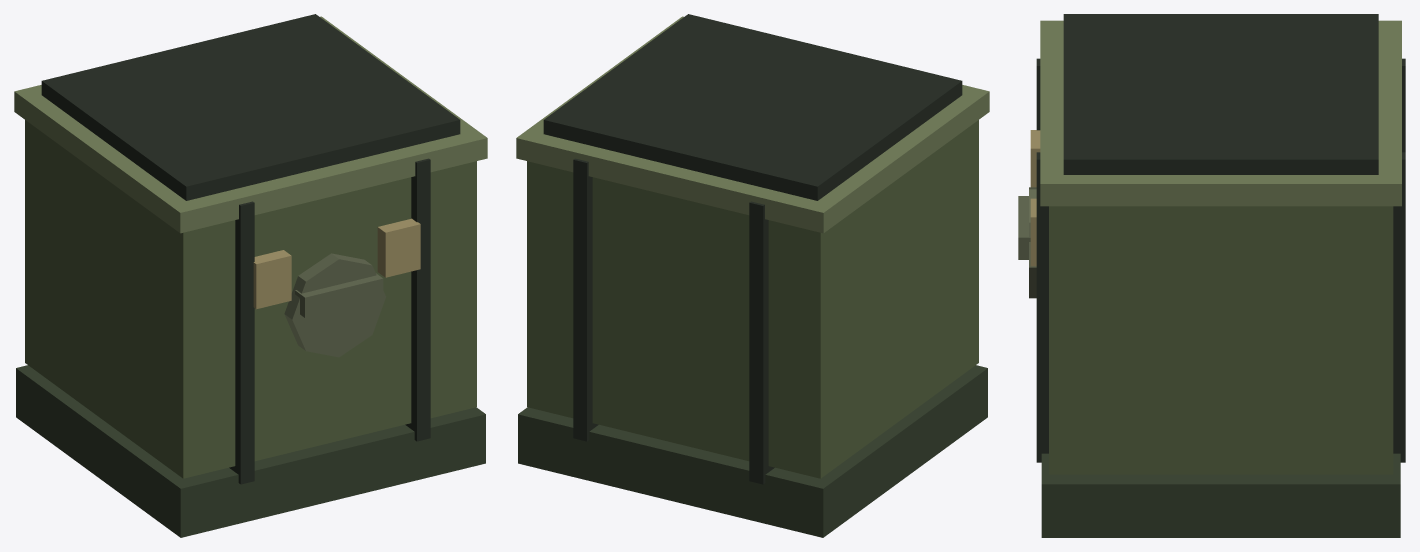
The model's file is treasury.obj.
The picture shows the model from 3 angles, left to right: view 1: azimuth 30°, elevation 25°; view 2: azimuth 150°, elevation 25°; view 3: azimuth 270°, elevation 25°; orthographic projection. The views are drawn at different scales.
Visible parts, largest first — view 1: BASE.023; view 2: BASE.023; view 3: BASE.023.
Part boxes in pixels (left/top/right/bottom): BASE.023: left=14, top=14, right=487, bottom=537; BASE.023: left=516, top=14, right=989, bottom=537; BASE.023: left=1018, top=14, right=1405, bottom=537.
Size of the model in its own units: 0.785 by 0.83 by 0.7875.
1 material, 1 textured.
